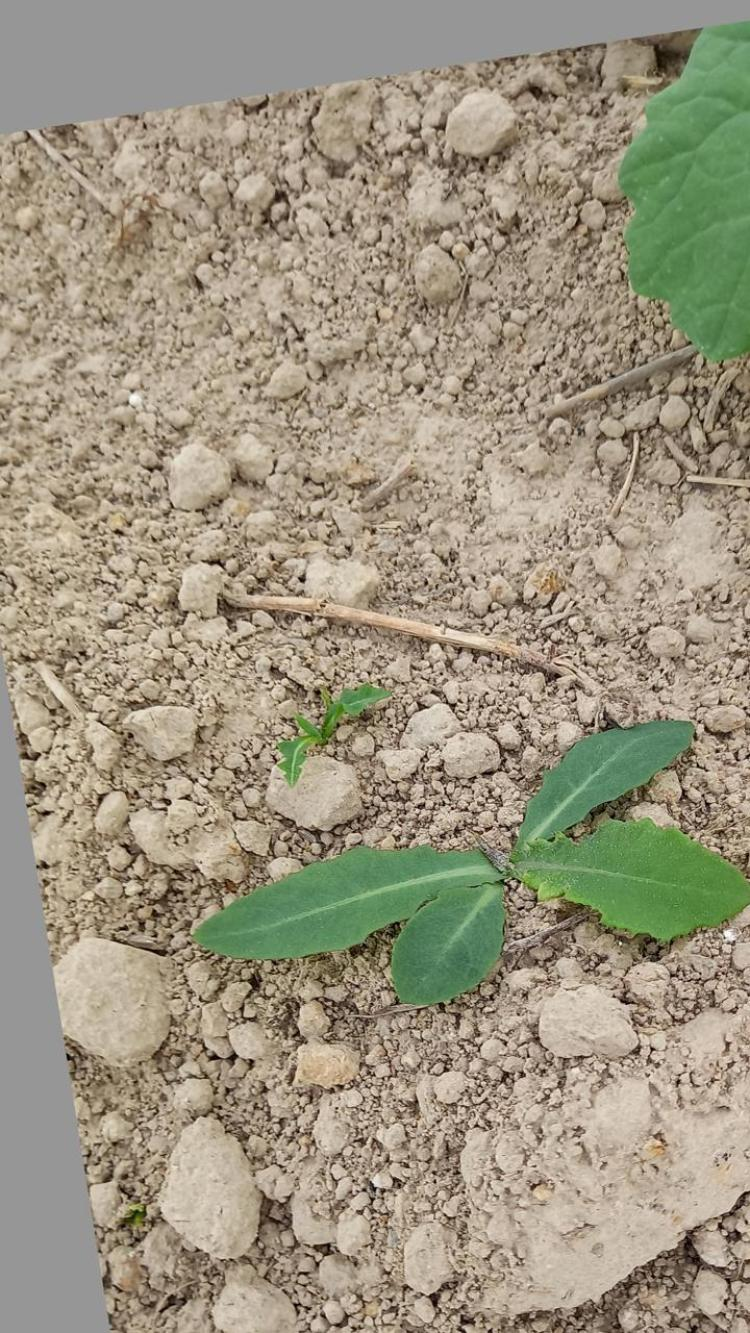bodyak: (196, 714, 750, 1010)
